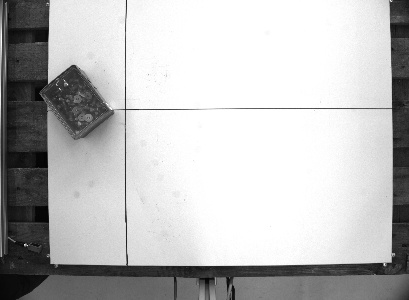klts: (37, 62, 114, 142)
